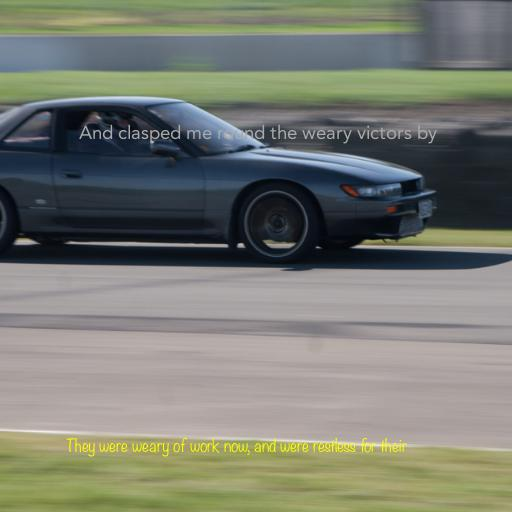Avenir: (79, 124, 437, 144)
Noteworthy: (65, 437, 407, 457)
